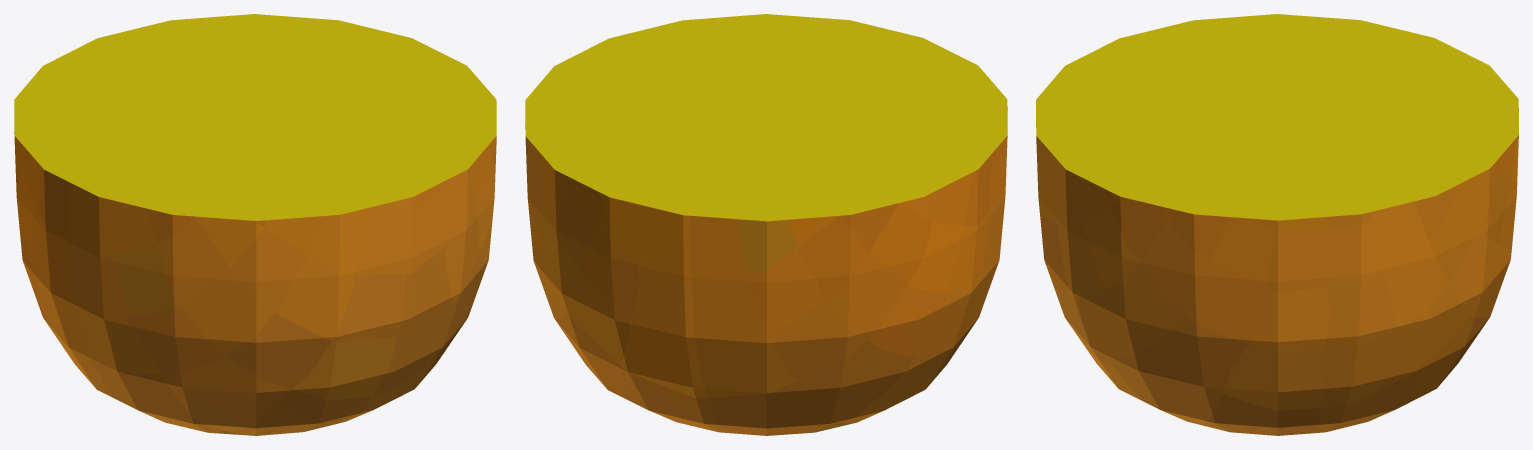
The model's file is pineapple_half_bottom.obj.
The picture shows the model from 3 angles, left to right: view 1: azimuth 30°, elevation 25°; view 2: azimuth 150°, elevation 25°; view 3: azimuth 270°, elevation 25°; orthographic projection.
Parts seen in each view (by area): view 1: Pineapple; view 2: Pineapple; view 3: Pineapple.
Boxes of the visible parts, box(x1,y1,x2,y2) form: Pineapple: box(14, 14, 496, 435); Pineapple: box(525, 14, 1007, 435); Pineapple: box(1036, 14, 1518, 435).
Bounding box in the file's own units: 2.12 × 1.38 × 2.09.
2 materials, 1 textured.
